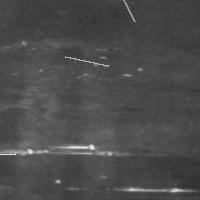scratches: (1, 141, 119, 160), (88, 0, 140, 26), (113, 181, 198, 196), (60, 52, 113, 71), (0, 149, 20, 162)
